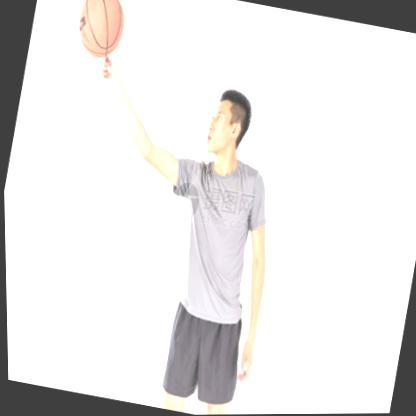basketball: (72, 0, 129, 60)
